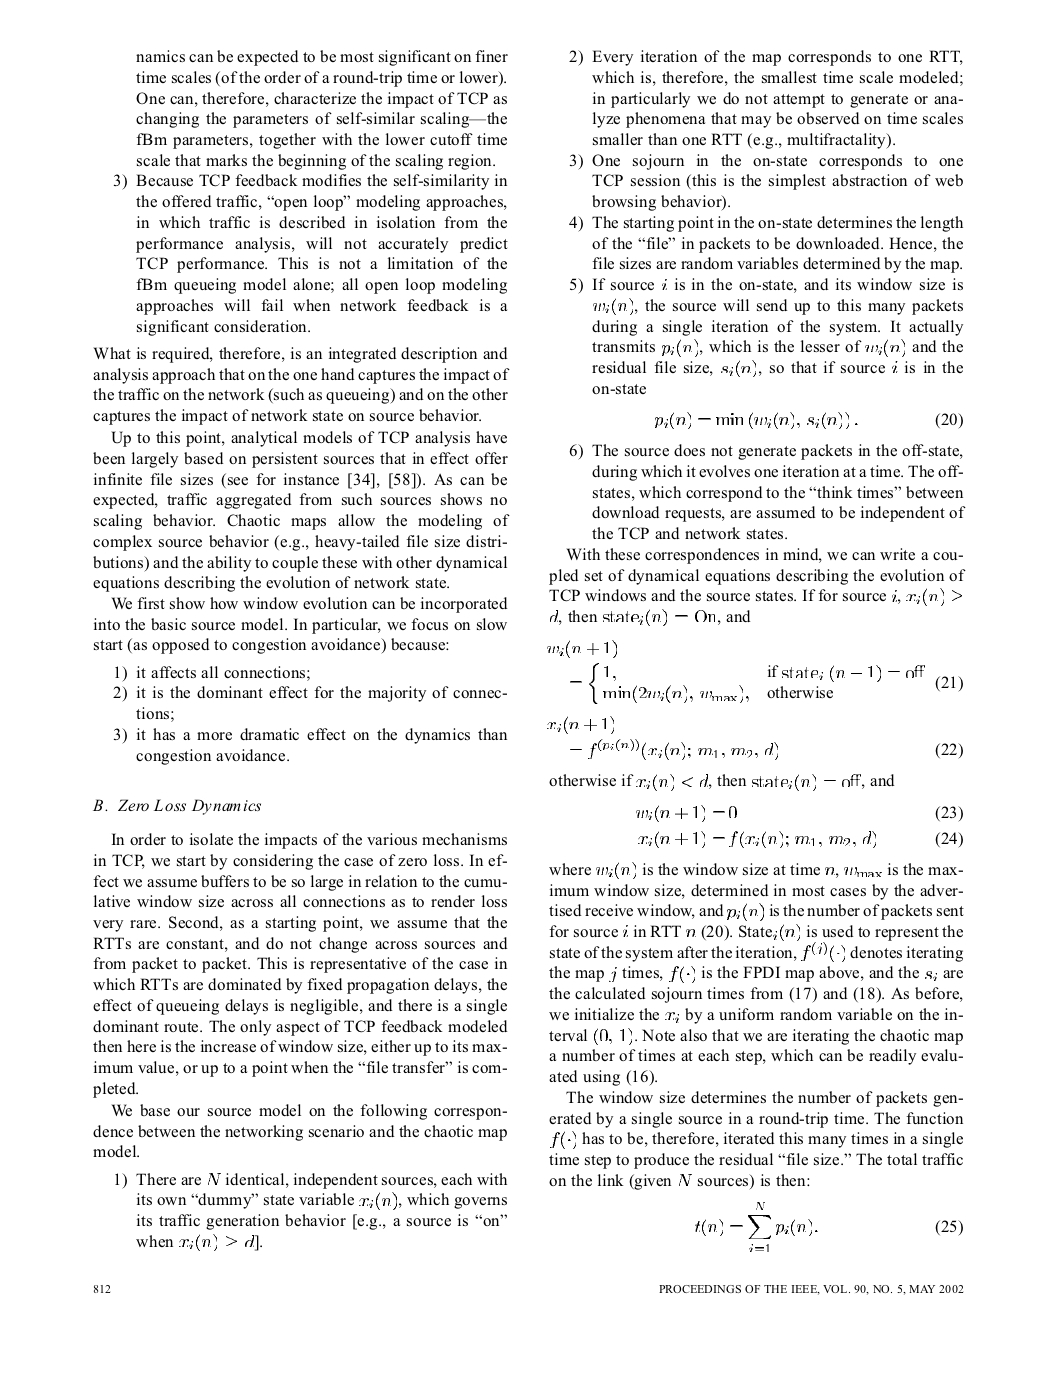formula: (570, 662, 962, 704), (695, 1202, 962, 1252), (570, 738, 962, 760), (636, 804, 962, 822), (637, 830, 962, 848), (655, 411, 962, 429), (547, 639, 616, 658), (547, 715, 613, 734)
